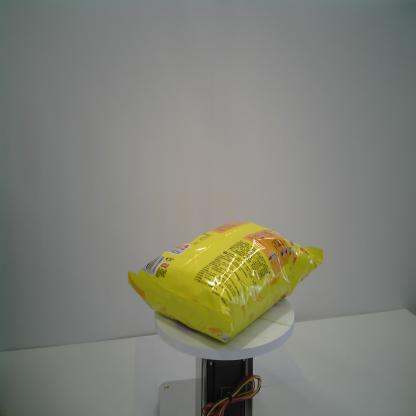Puffed Food: (125, 219, 323, 344)
